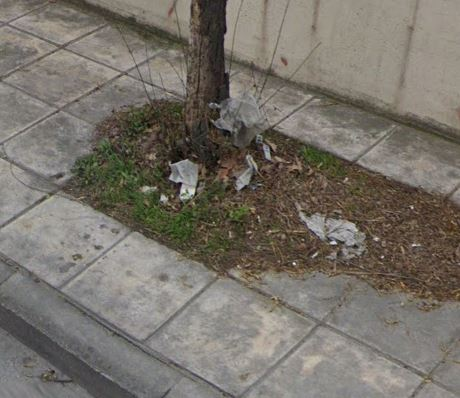trash: (295, 199, 381, 275), (196, 89, 273, 151), (158, 143, 202, 207), (226, 146, 262, 200)
